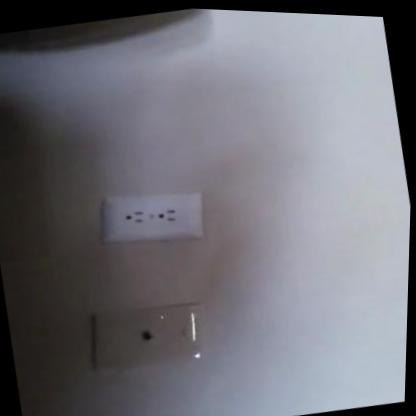OUTLET: (96, 182, 207, 256)
